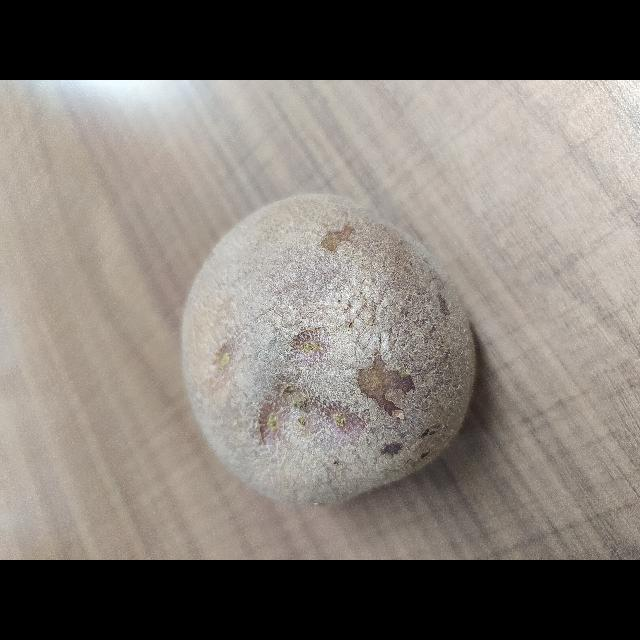Damaged potato: (43, 252, 383, 566)
